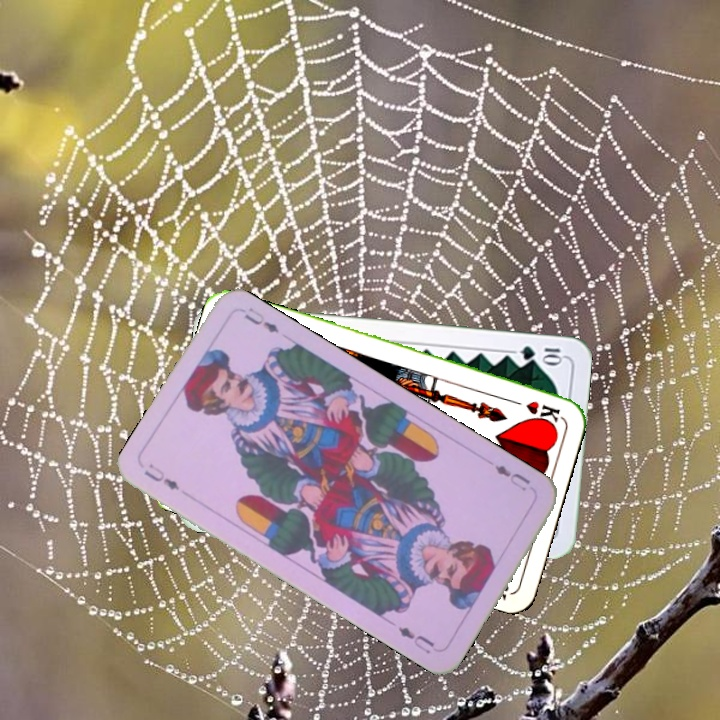EU: (140, 459, 182, 493), (490, 461, 533, 494)
G10: (517, 342, 566, 365)
HK: (504, 395, 563, 424)
